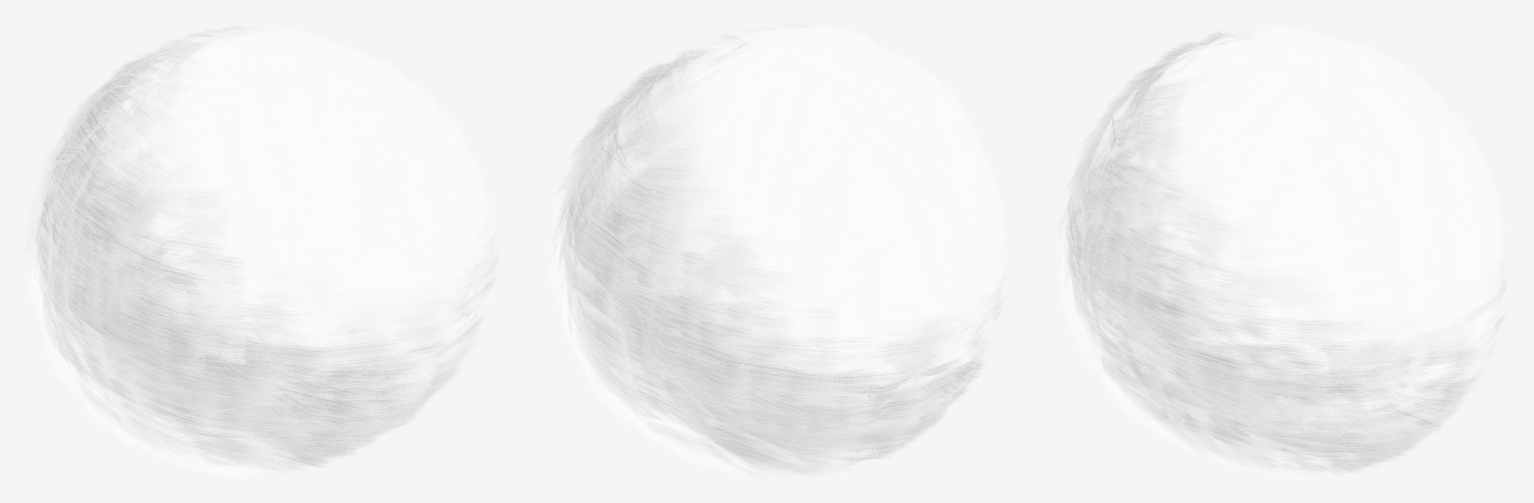
The model's file is cotton_ball.glb.
3 views of the same model, side by side, from view 1: azimuth 30°, elevation 25°; view 2: azimuth 150°, elevation 25°; view 3: azimuth 270°, elevation 25° (orthographic).
Visible parts, largest first — view 1: strands.136, strands.415, strands.111, strands.175, strands.906, strands.082, strands.280, strands.149, strands.568, strands.378, strands.159, strands.816 (+47 smaller); view 2: strands.211, strands.303, strands.756, strands.219, strands.375, strands.329, strands.679, strands.202, strands.715, strands.768, strands.910, strands.697 (+58 smaller); view 3: strands.265, strands.313, strands.262, strands.930, strands.976, strands.141, strands.270, strands.732, strands.243, strands.301, strands.579, strands.774 (+48 smaller).
Part boxes in pixels (left/top/right/bottom): strands.136: left=273, top=203, right=373, bottom=322; strands.415: left=269, top=123, right=377, bottom=228; strands.111: left=98, top=134, right=280, bottom=265; strands.175: left=198, top=117, right=317, bottom=227; strands.906: left=171, top=158, right=288, bottom=279; strands.082: left=272, top=114, right=364, bottom=218; strands.280: left=98, top=209, right=274, bottom=322; strands.149: left=231, top=230, right=321, bottom=338; strands.568: left=220, top=96, right=331, bottom=204; strands.378: left=271, top=221, right=364, bottom=337; strands.159: left=281, top=154, right=384, bottom=264; strands.816: left=280, top=139, right=363, bottom=252; strands.211: left=710, top=257, right=905, bottom=371; strands.303: left=656, top=309, right=841, bottom=433; strands.756: left=649, top=325, right=839, bottom=451; strands.219: left=771, top=337, right=873, bottom=424; strands.375: left=836, top=214, right=942, bottom=332; strands.329: left=826, top=285, right=916, bottom=394; strands.679: left=635, top=309, right=811, bottom=447; strands.202: left=653, top=333, right=830, bottom=472; strands.715: left=828, top=369, right=917, bottom=443; strands.768: left=684, top=334, right=869, bottom=447; strands.910: left=788, top=233, right=895, bottom=353; strands.697: left=618, top=348, right=719, bottom=448; strands.265: left=1166, top=199, right=1366, bottom=347; strands.313: left=1169, top=247, right=1363, bottom=360; strands.262: left=1146, top=262, right=1323, bottom=376; strands.930: left=1166, top=264, right=1356, bottom=372; strands.976: left=1194, top=272, right=1301, bottom=380; strands.141: left=1174, top=241, right=1369, bottom=357; strands.270: left=1163, top=195, right=1268, bottom=310; strands.732: left=1146, top=256, right=1324, bottom=370; strands.243: left=1277, top=193, right=1401, bottom=318; strands.301: left=1235, top=296, right=1425, bottom=408; strands.579: left=1088, top=279, right=1184, bottom=399; strands.774: left=1155, top=212, right=1251, bottom=328.
Bounding box in the file's own units: 0.0324 × 0.032 × 0.0317.
Materials: 1 (1 with a texture image).
